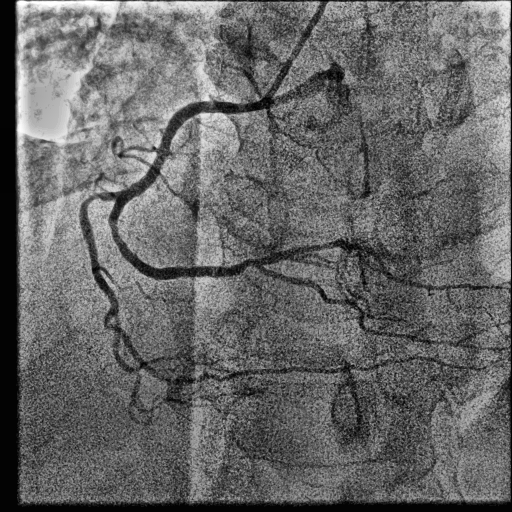pborca: (259, 239, 488, 290)
pda: (255, 265, 510, 350)
rca: (108, 99, 266, 280)
